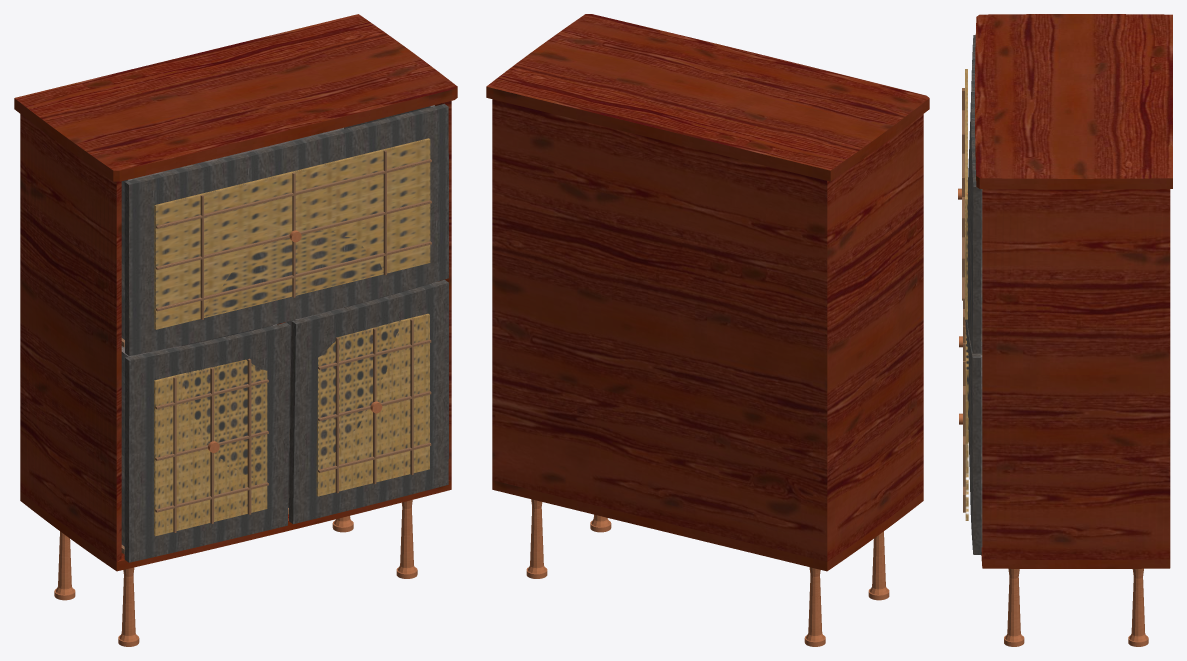
Rendered from drawer_cabinet_with_sliding_drawers__0001.glb.
3 renders of one model, left to right at view 1: azimuth 30°, elevation 25°; view 2: azimuth 150°, elevation 25°; view 3: azimuth 270°, elevation 25°, orthographic. The views are drawn at different scales.
Parts seen in each view (by area): view 1: drawer_front__framed_cane__drawer_2::drawer_front__framed_ca (×6), carcass::body_form__bombe_serpentine__case_shell, carcass::body_form__bombe_serpentine__top_slab, drawer_front__framed_cane__drawer_0::drawer_front__framed_ca (×4), drawer_front__framed_cane__drawer_1::drawer_front__framed_ca (×2), carcass::body_form__bombe_serpentine__base_panel, carcass::support_base__fine_metal_legs__leg_0__turned_leg, carcass::support_base__fine_metal_legs__leg_1__turned_leg, carcass::support_base__fine_metal_legs__leg_2__turned_leg; view 2: carcass::body_form__bombe_serpentine__case_shell, carcass::body_form__bombe_serpentine__top_slab, carcass::body_form__bombe_serpentine__base_panel, carcass::support_base__fine_metal_legs__leg_2__turned_leg, carcass::support_base__fine_metal_legs__leg_3__turned_leg, carcass::support_base__fine_metal_legs__leg_0__turned_leg; view 3: carcass::body_form__bombe_serpentine__case_shell, carcass::body_form__bombe_serpentine__top_slab, drawer_front__framed_cane__drawer_1::drawer_front__framed_ca (×4), drawer_front__framed_cane__drawer_2::drawer_front__framed_ca (×2), carcass::body_form__bombe_serpentine__base_panel, carcass::support_base__fine_metal_legs__leg_3__turned_leg, carcass::support_base__fine_metal_legs__leg_1__turned_leg.
Boxes of the visible parts, x1,y1,x2,y2 form: drawer_front__framed_cane__drawer_2::drawer_front__framed_ca (×6): (121, 103, 448, 356); carcass::body_form__bombe_serpentine__case_shell: (20, 101, 451, 561); carcass::body_form__bombe_serpentine__top_slab: (14, 14, 457, 181); drawer_front__framed_cane__drawer_0::drawer_front__framed_ca (×4): (121, 322, 290, 562); drawer_front__framed_cane__drawer_1::drawer_front__framed_ca (×2): (289, 279, 448, 524); carcass::body_form__bombe_serpentine__base_panel: (20, 480, 451, 571); carcass::support_base__fine_metal_legs__leg_0__turned_leg: (119, 567, 137, 641); carcass::support_base__fine_metal_legs__leg_1__turned_leg: (398, 500, 416, 573); carcass::support_base__fine_metal_legs__leg_2__turned_leg: (56, 531, 73, 594); carcass::body_form__bombe_serpentine__case_shell: (492, 99, 923, 561); carcass::body_form__bombe_serpentine__top_slab: (486, 14, 929, 181); carcass::body_form__bombe_serpentine__base_panel: (492, 480, 923, 571); carcass::support_base__fine_metal_legs__leg_2__turned_leg: (806, 567, 824, 641); carcass::support_base__fine_metal_legs__leg_3__turned_leg: (528, 499, 545, 573); carcass::support_base__fine_metal_legs__leg_0__turned_leg: (870, 531, 887, 594); carcass::body_form__bombe_serpentine__case_shell: (982, 189, 1170, 559); carcass::body_form__bombe_serpentine__top_slab: (975, 14, 1172, 189); drawer_front__framed_cane__drawer_1::drawer_front__framed_ca (×4): (963, 319, 982, 554); drawer_front__framed_cane__drawer_2::drawer_front__framed_ca (×2): (965, 35, 981, 353); carcass::body_form__bombe_serpentine__base_panel: (981, 547, 1170, 568); carcass::support_base__fine_metal_legs__leg_3__turned_leg: (1129, 568, 1147, 641); carcass::support_base__fine_metal_legs__leg_1__turned_leg: (1005, 568, 1022, 641).
Bounding box in the file's own units: 0.9197 × 1.25 × 0.5062.
6 materials, 6 textured.
